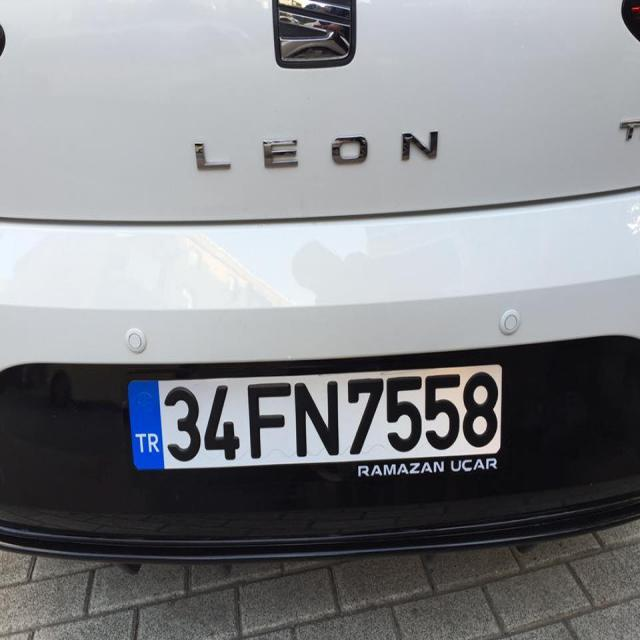plate: (123, 362, 509, 486)
